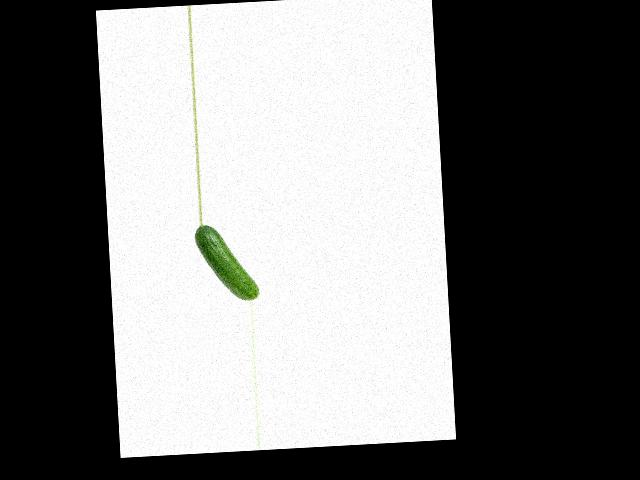cucumber: (193, 221, 259, 303)
